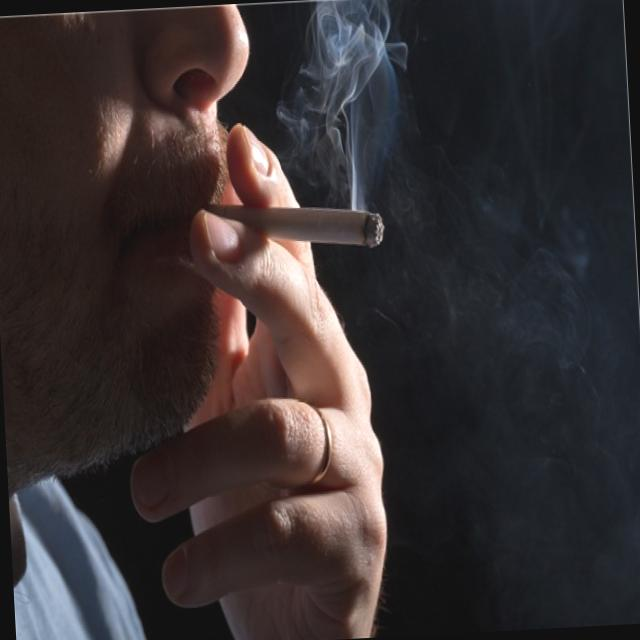cigarette: (240, 196, 387, 254)
